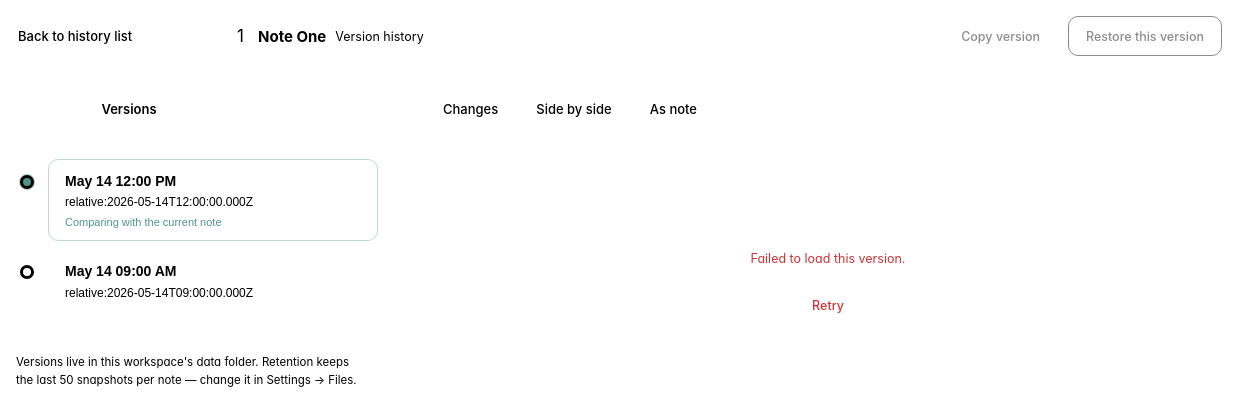
HistoryView › a failed snapshot load offers retry
This screenshot has width=1246, height=404.
Expected: the message "Failed to load this version. Retry" is shown, [750, 251, 905, 320]
Click the button with class "history-diff-pane__retry". click: (828, 306)
box: [799, 292, 857, 320]
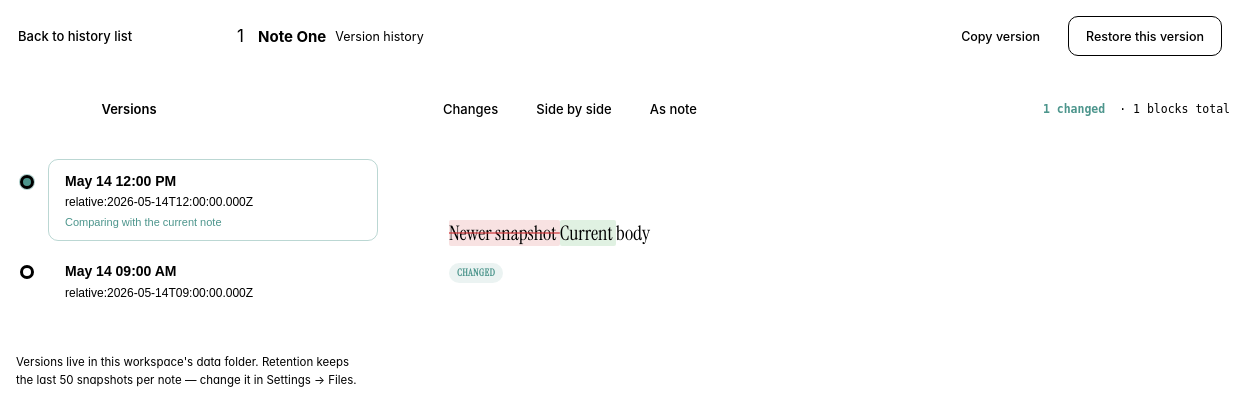
Expected: the message with class "history-diff-pane__state--error" is gone
